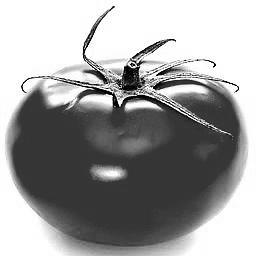bukan telur: (8, 60, 248, 244)
